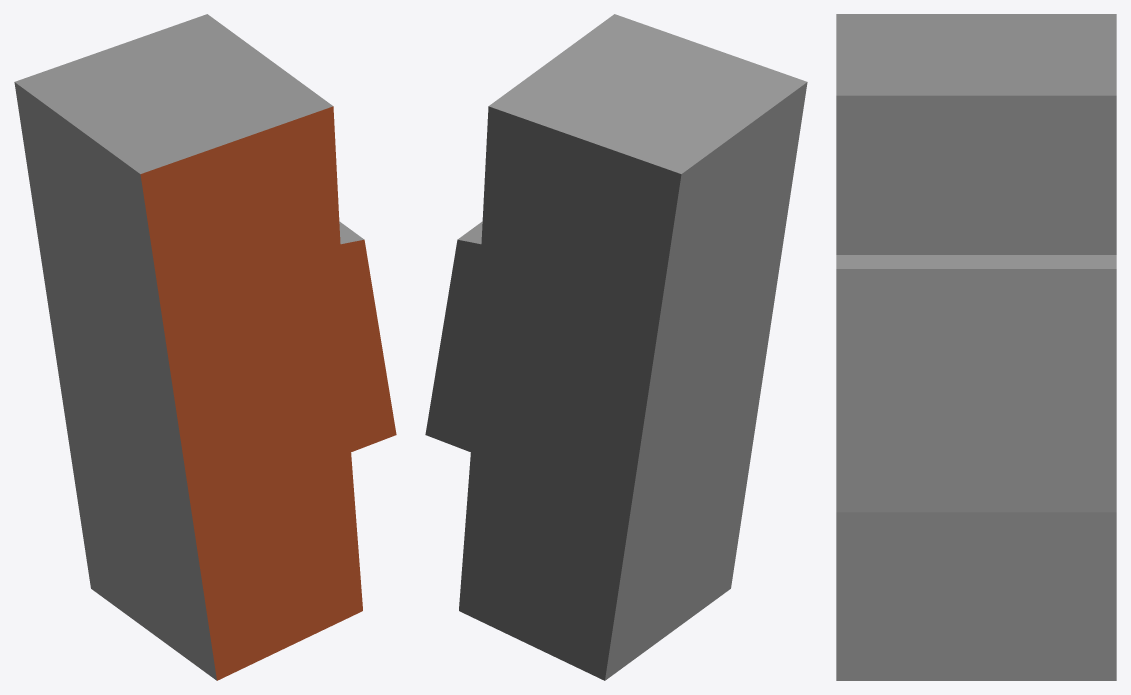
The model's file is construction_2182_assumed_A_Casa_h6m.obj.
3 renders of one model, left to right at view 1: azimuth 30°, elevation 25°; view 2: azimuth 150°, elevation 25°; view 3: azimuth 270°, elevation 25°, orthographic. The views are drawn at different scales.
Parts seen in each view (by area): view 1: construction_2182_assumed_A_Casa; view 2: construction_2182_assumed_A_Casa; view 3: construction_2182_assumed_A_Casa.
Part boxes in pixels (<box>): construction_2182_assumed_A_Casa: <box>14,14,396,680</box>; construction_2182_assumed_A_Casa: <box>425,14,807,680</box>; construction_2182_assumed_A_Casa: <box>836,14,1116,680</box>.
Bounding box in the file's own units: 7.04 × 14.34 × 6.
